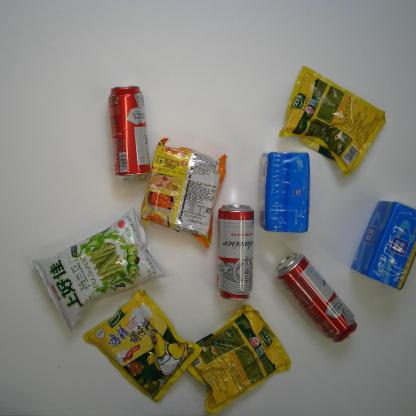Alcohol: (274, 252, 358, 343), (107, 84, 151, 181), (216, 203, 255, 302)
Instant Noodles: (140, 137, 228, 250)
Puffed Food: (32, 207, 170, 333)
Seasoner: (82, 288, 204, 405), (278, 65, 386, 177), (187, 304, 292, 415)
Tissue: (350, 200, 416, 291), (258, 150, 311, 234)
